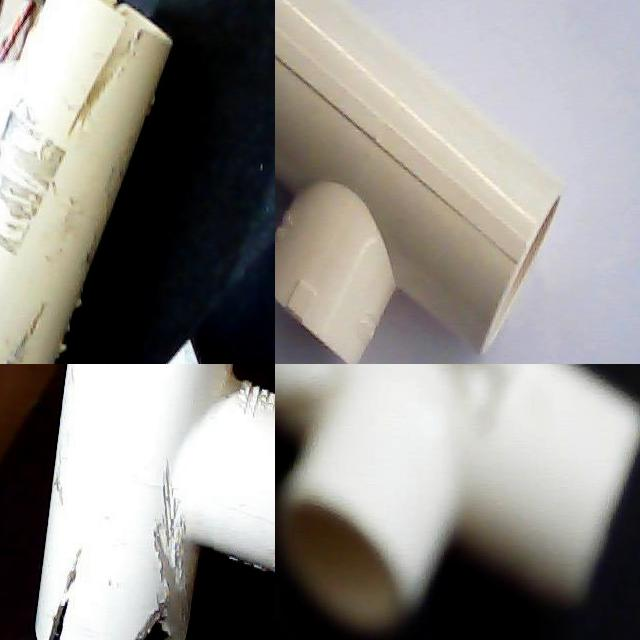Defective: (49, 466, 214, 640), (0, 67, 82, 252), (68, 0, 151, 131), (148, 481, 191, 640), (0, 304, 55, 364), (140, 580, 193, 640), (397, 364, 502, 393), (49, 568, 79, 640)
T Joint: (275, 0, 565, 364), (275, 364, 640, 640), (0, 0, 172, 364)
